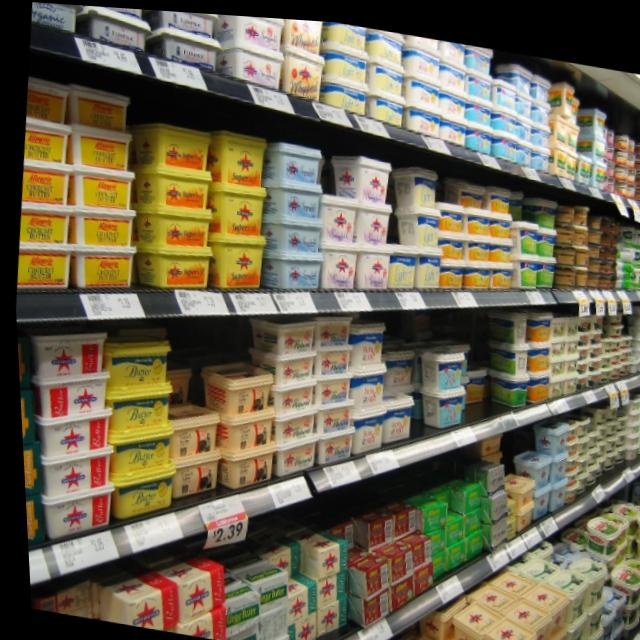q289: (513, 569, 562, 624), (476, 607, 537, 640), (443, 598, 489, 640)
